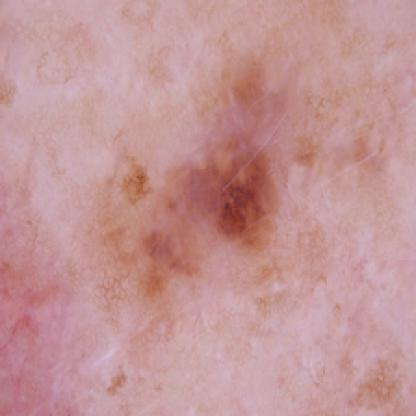benign: (110, 56, 297, 266)
